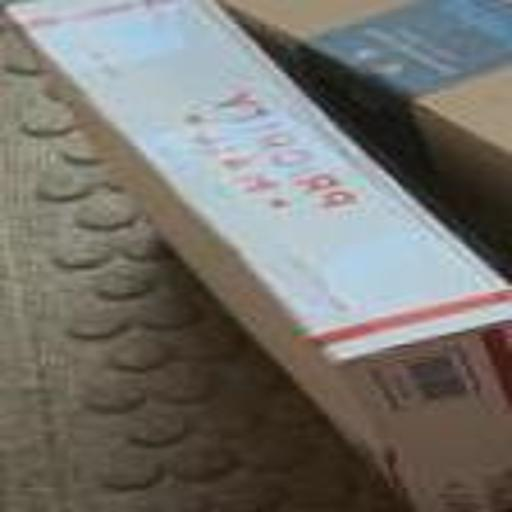Other: (3, 0, 512, 501)
